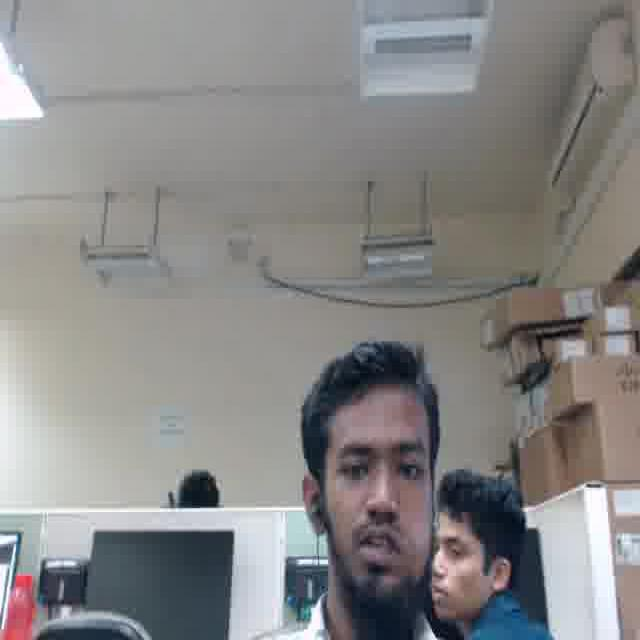Engaged: (429, 511, 487, 613)
